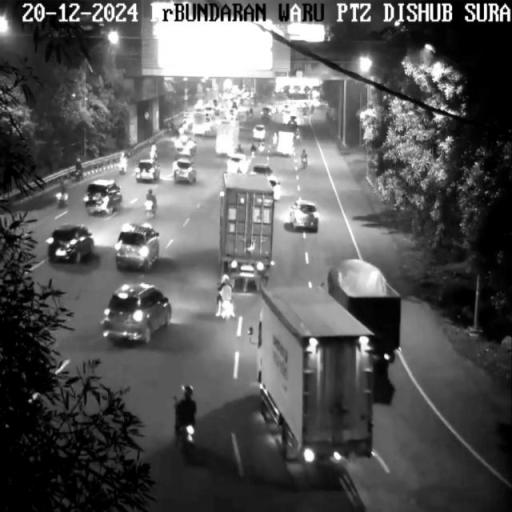car: (101, 282, 171, 347), (44, 225, 97, 267), (116, 224, 160, 267), (84, 181, 122, 215), (292, 202, 322, 232)
motorcycle: (174, 418, 200, 456), (215, 295, 239, 322)
truck: (245, 283, 379, 471), (332, 260, 398, 373), (217, 174, 273, 282)
